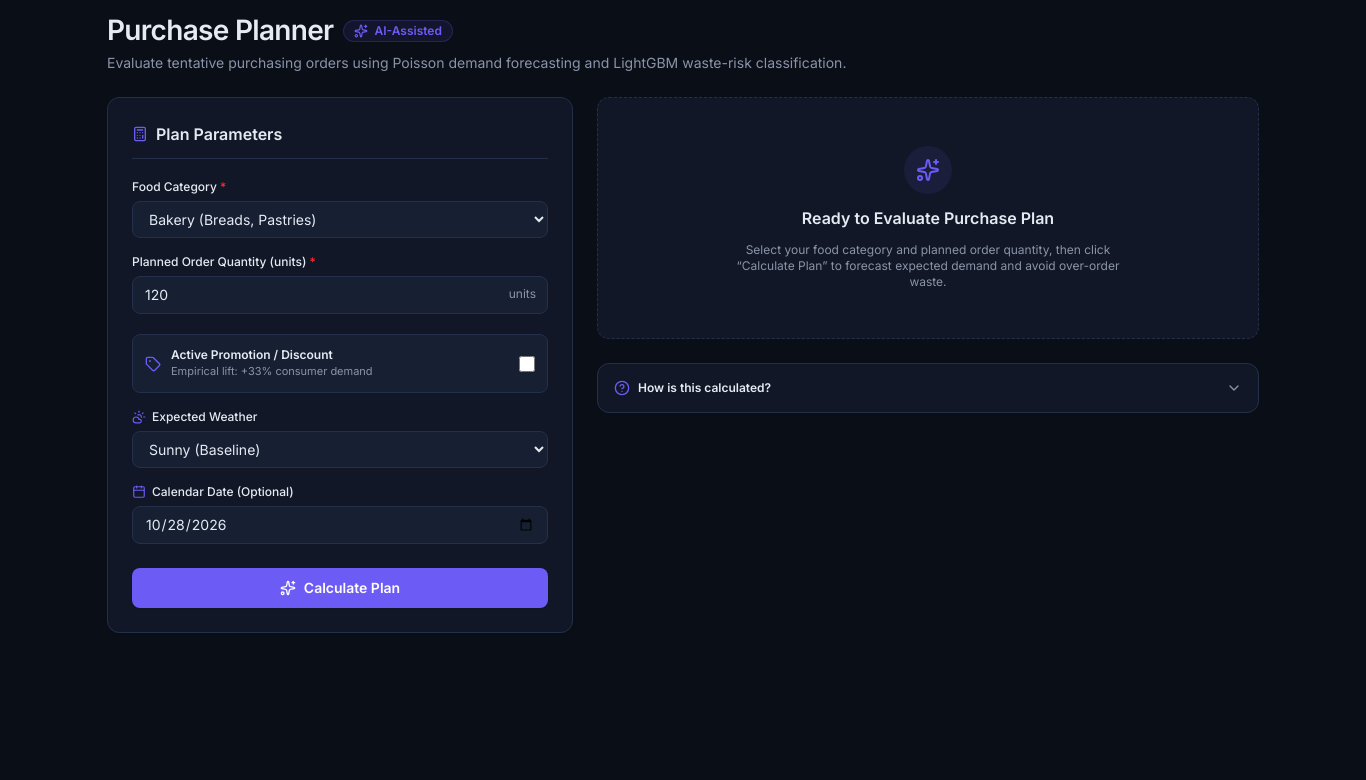
Test: AI Waste Predictions & Benchmark Insights (Task 3) › BusinessPurchasePlannerPage › displays the service unavailable banner when the ML service returns 503 or unavailable status
Click the button "Calculate Plan": {"x": 340, "y": 588} [132,568,548,608]
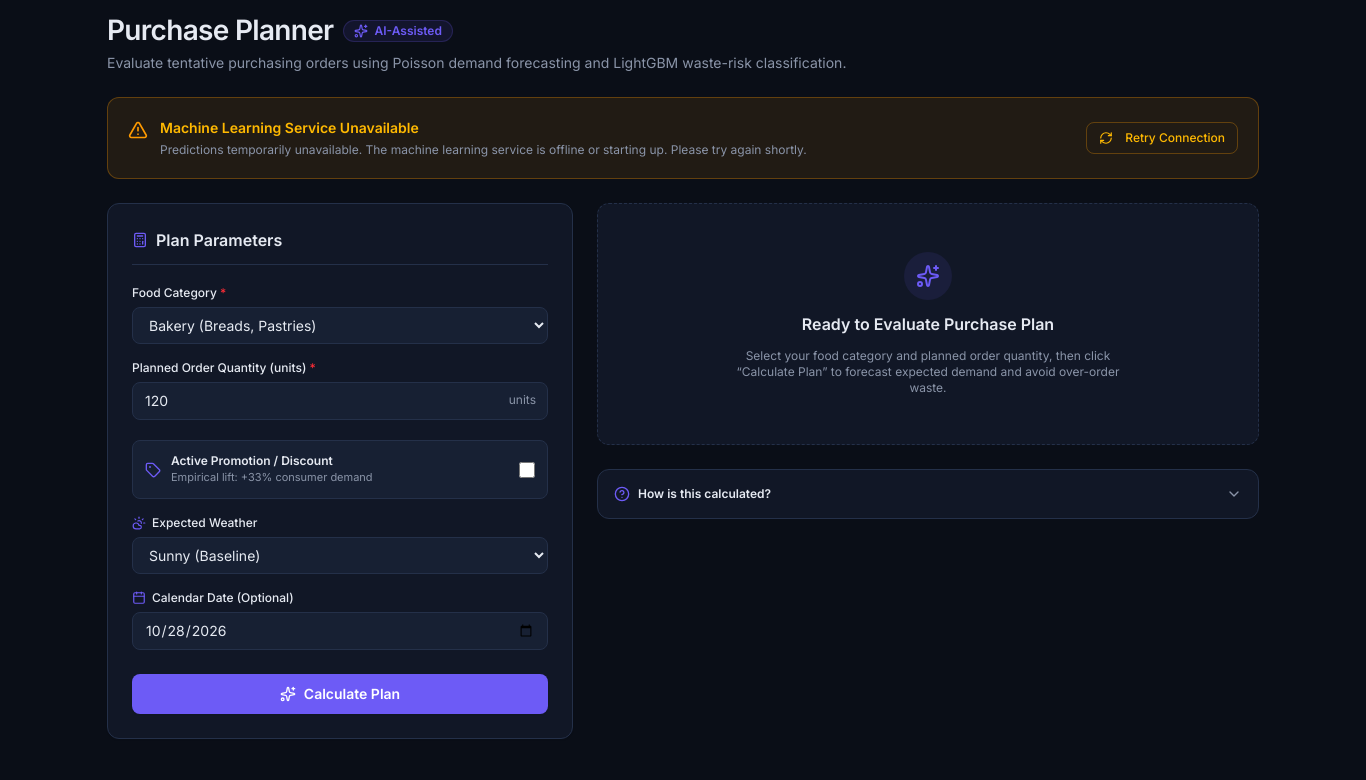
Check: the message is shown, box [107,97,1259,179]
Check: the heading "Machine Learning Service Unavailable" is shown, box [160,119,419,136]
Check: the text "Predictions temporarily unavailable" is shown, box [160,142,807,157]
